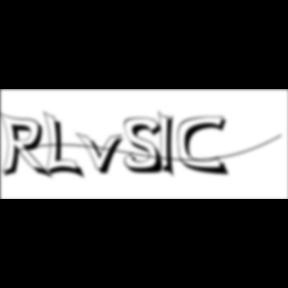C: (178, 115, 233, 178)
L: (43, 110, 87, 182)
R: (0, 112, 56, 182)
S: (124, 117, 170, 176)
l: (158, 108, 182, 182)
v: (76, 131, 130, 177)
